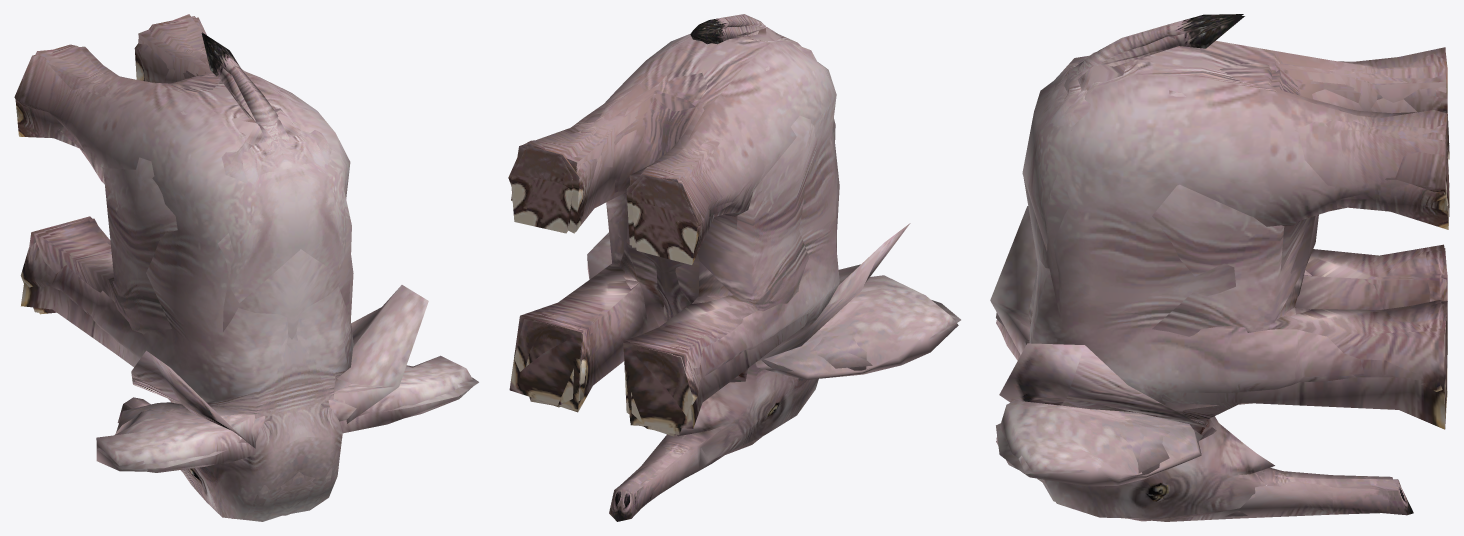
The model's file is African Elefant Calf.obj.
3 renders of one model, left to right at view 1: azimuth 30°, elevation 25°; view 2: azimuth 150°, elevation 25°; view 3: azimuth 270°, elevation 25°, orthographic. The views are drawn at different scales.
Visible parts, largest first — view 1: Editable_Mesh.001, Editable_Mesh.002, Editable_Mesh.003, Editable_Mesh; view 2: Editable_Mesh.001, Editable_Mesh.002, Editable_Mesh.003, Editable_Mesh; view 3: Editable_Mesh.001, Editable_Mesh.002, Editable_Mesh.003, Editable_Mesh.
Boxes of the visible parts, x1,y1,x2,y2 form: Editable_Mesh.001: (14,16,472,521); Editable_Mesh.002: (21,17,428,518); Editable_Mesh.003: (15,14,478,518); Editable_Mesh: (44,55,475,510); Editable_Mesh.001: (508,14,958,521); Editable_Mesh.002: (509,25,910,510); Editable_Mesh.003: (511,28,960,436); Editable_Mesh: (526,27,956,429); Editable_Mesh.001: (996,14,1447,521); Editable_Mesh.002: (990,16,1447,521); Editable_Mesh.003: (996,16,1449,514); Editable_Mesh: (996,36,1447,501).
Bounding box in the file's own units: 5.23 × 6.24 × 5.18.
Materials: 4 (4 with a texture image).
